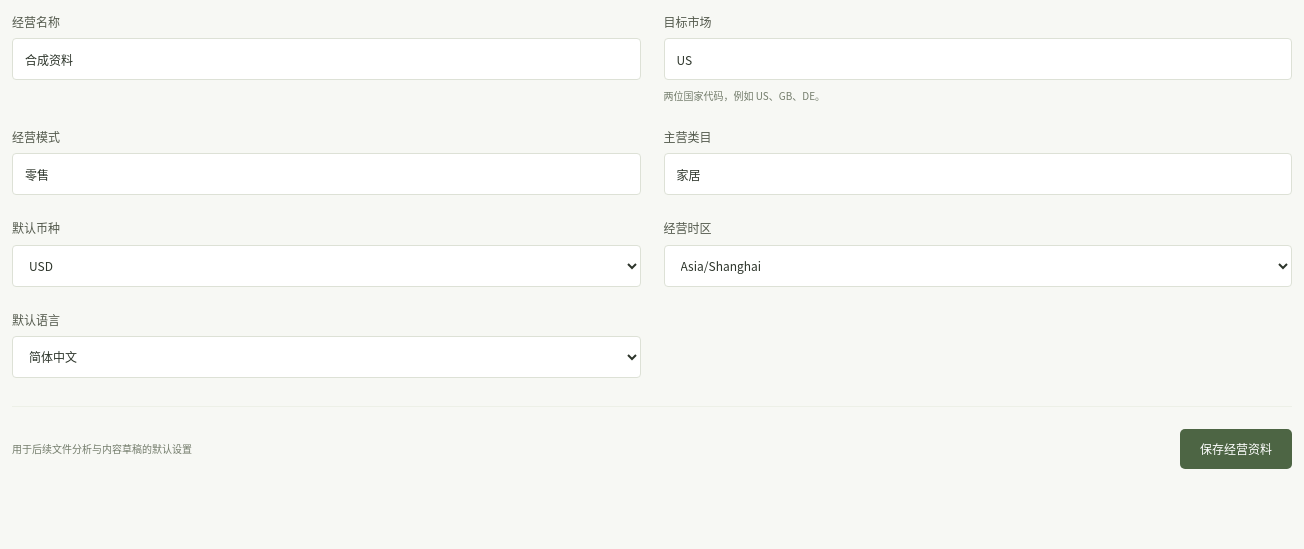
it: profile editing › retains entered values and reports a rejected stale edit
Replace the text in the field with id "display-name" with "我的新资料" at (326, 59), box 12,38 -> 640,80
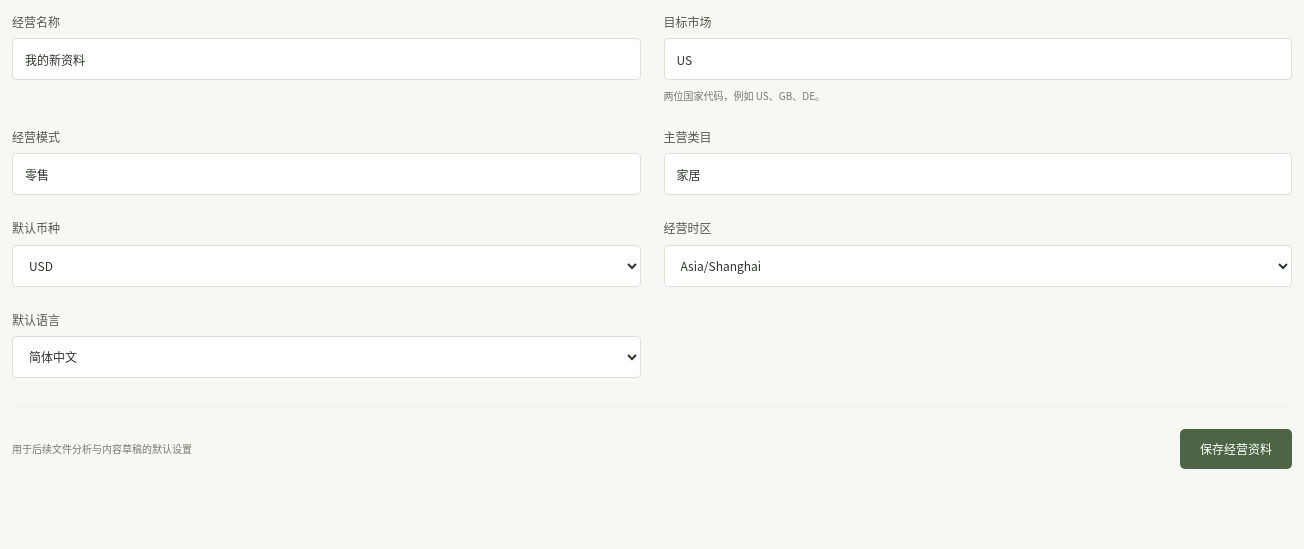
Submit the form
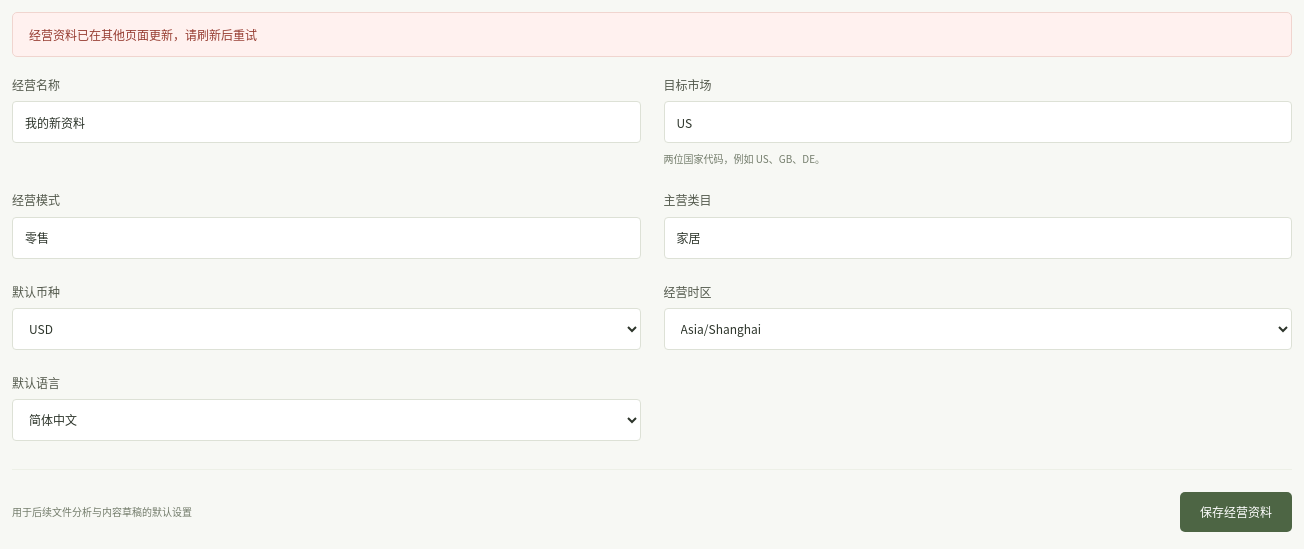
Expected: the button "保存经营资料" is enabled, 1180,492 -> 1292,532
Now the message "经营资料已在其他页面更新，请刷新后重试" is shown, box 12,12 -> 1292,57
